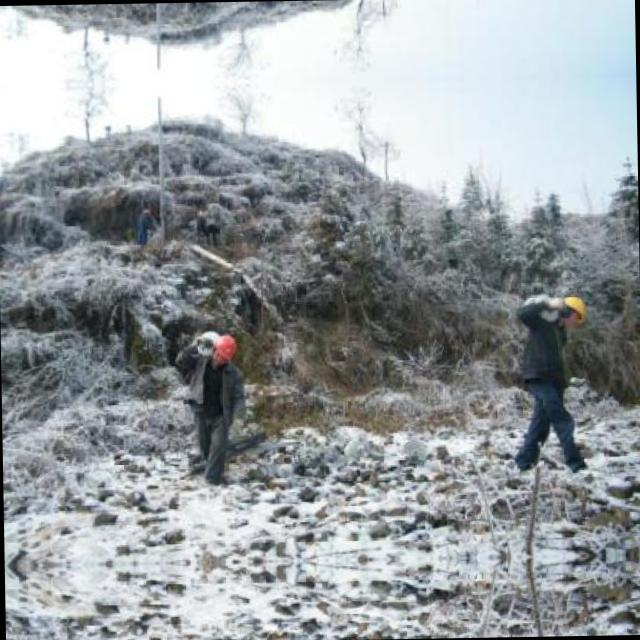helmet: (556, 292, 586, 330), (210, 331, 237, 364)
